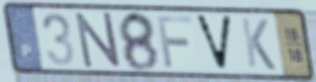3: (41, 11, 75, 67)
8: (116, 9, 163, 74)
F: (155, 14, 195, 70)
K: (239, 16, 278, 73)
N: (73, 10, 123, 70)
V: (192, 12, 235, 73)
